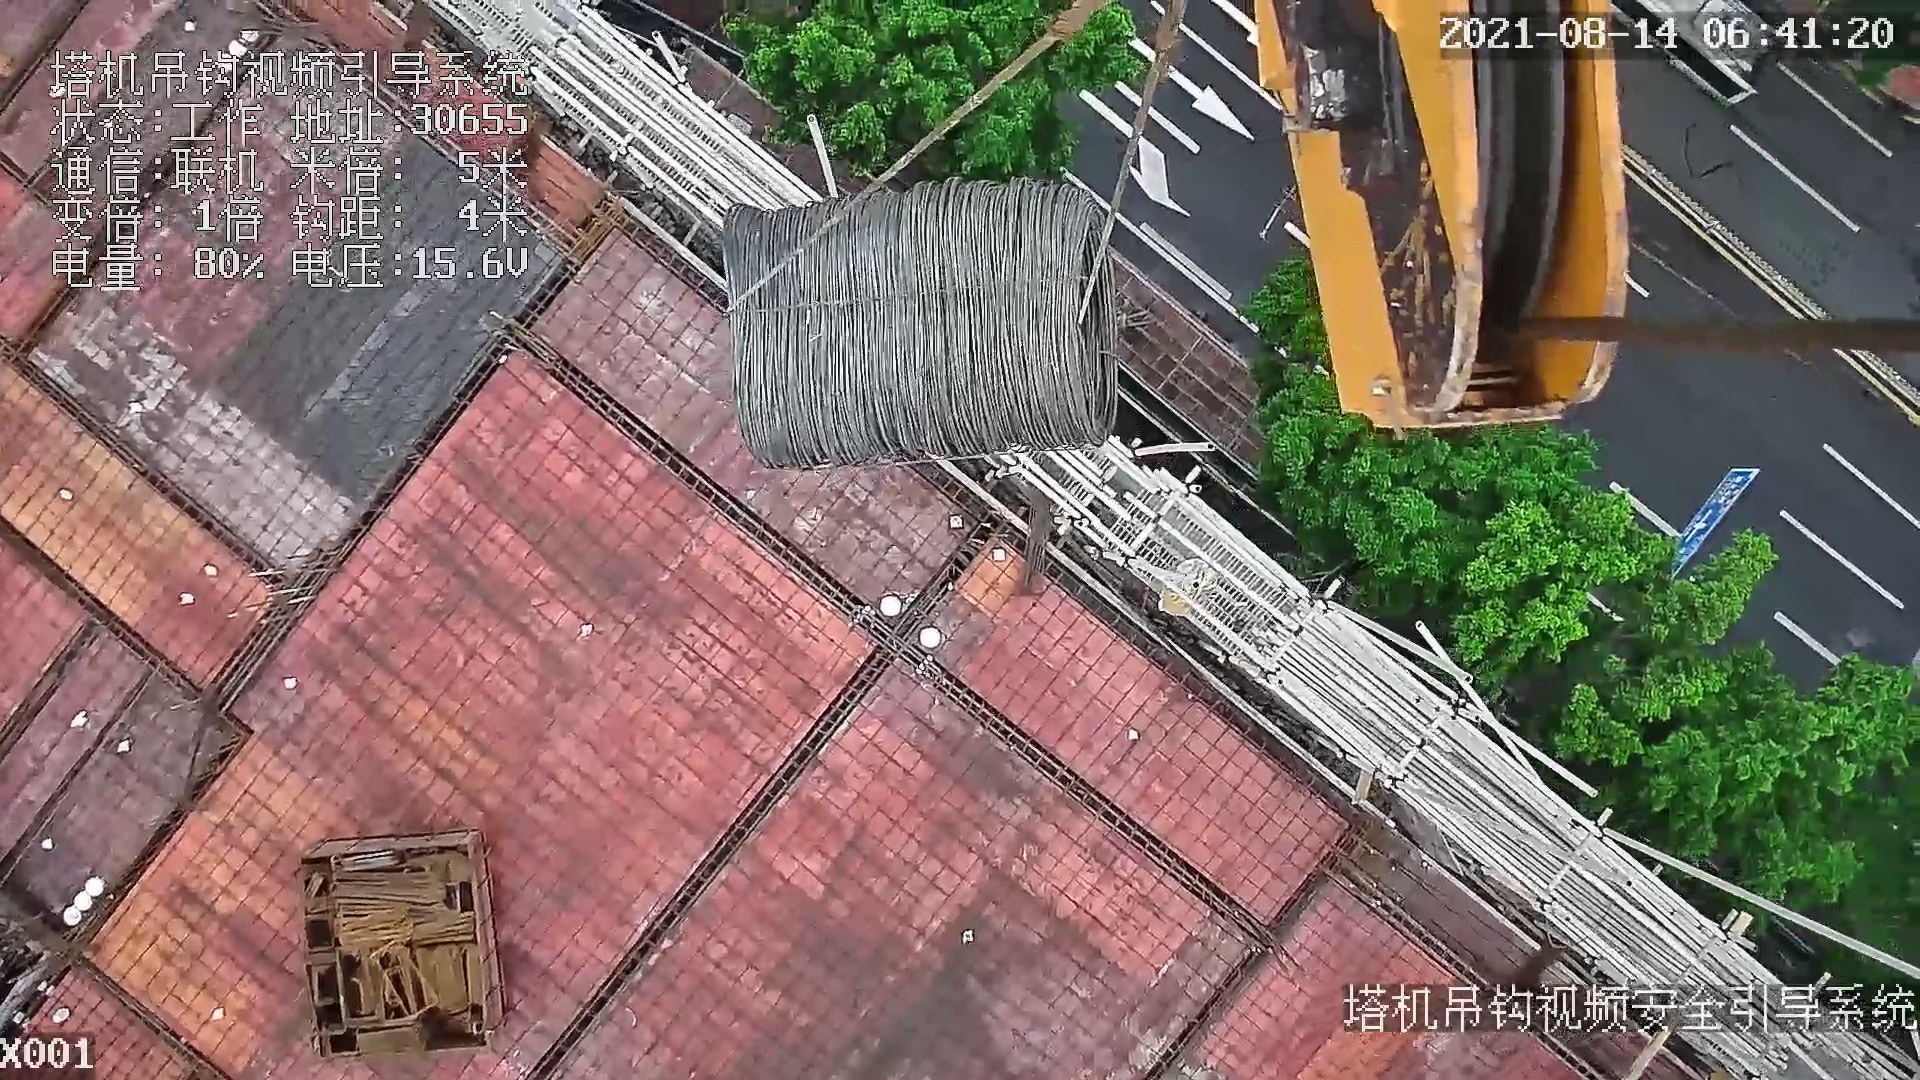hook: (1222, 1, 1673, 436)
